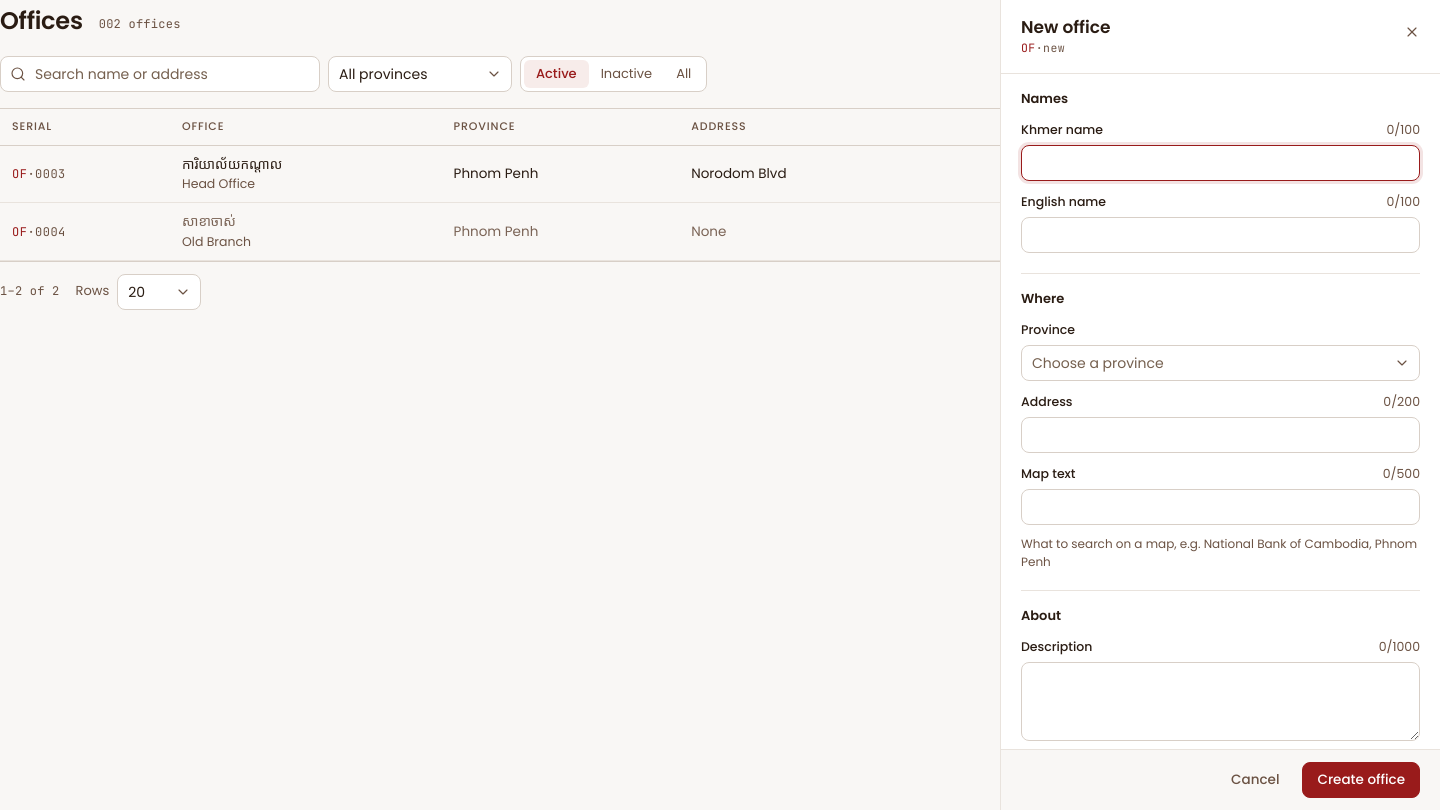
it: OfficesView › shows a duplicate name under the English name
This screenshot has width=1440, height=810.
Type "ការិយាល័យ" into the field with id "name_kh" at (1220, 163), box [1021,145,1420,181]
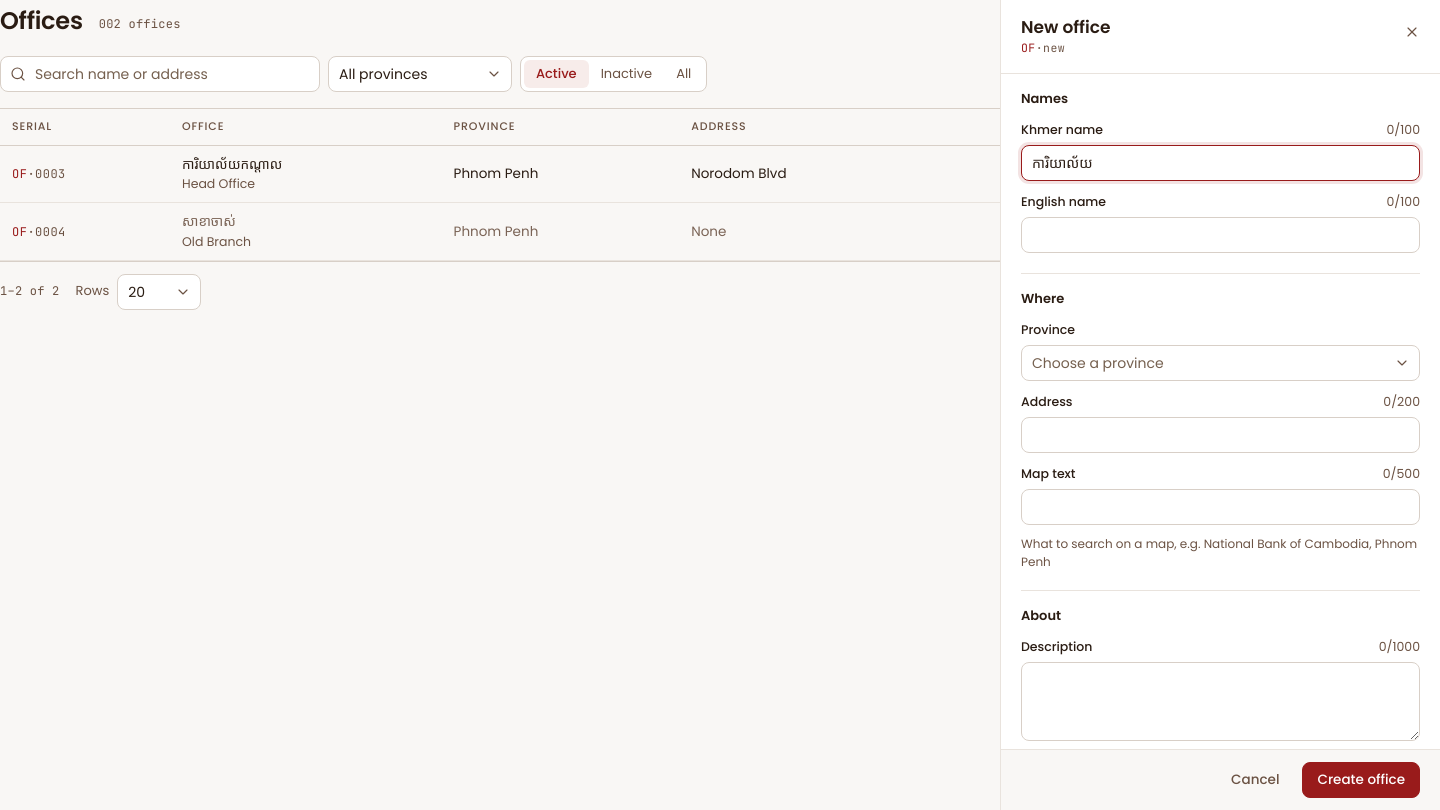
Type "Head Office" into the field with id "name_en" at (1220, 235), box [1021,217,1420,253]
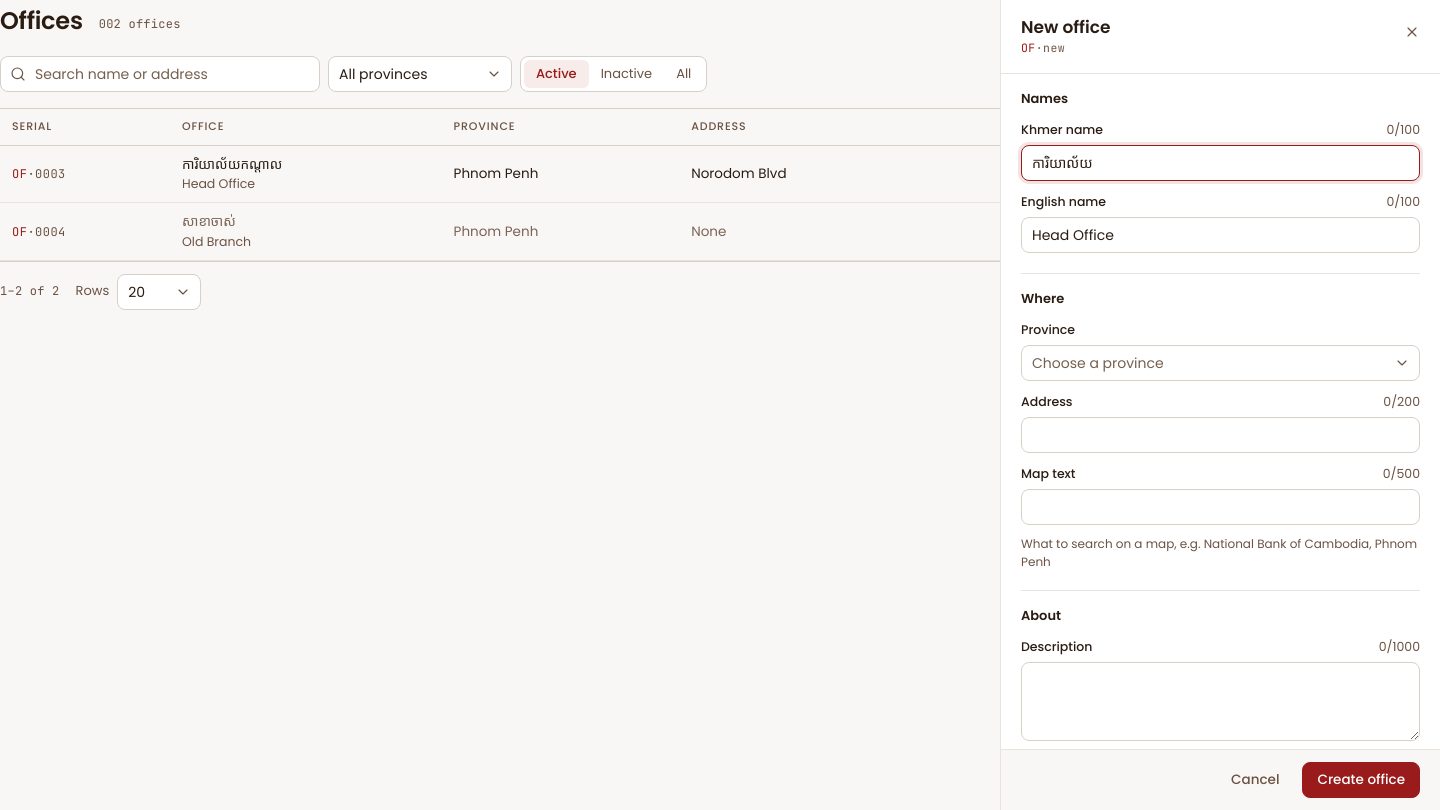
Click the button "Choose a province" at (1098, 363), box [1021,345,1420,381]
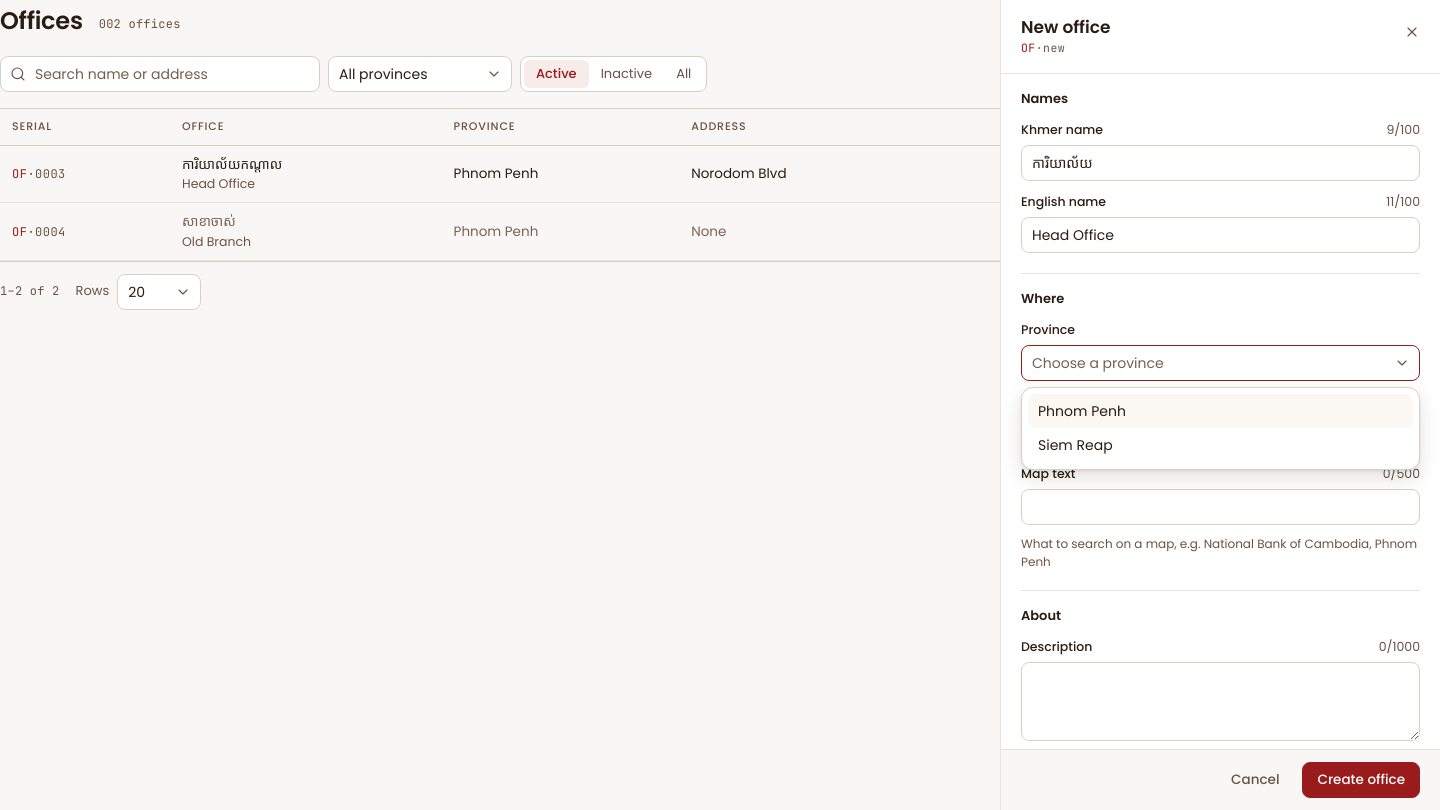
Click the option "Phnom Penh" at (1082, 411), box [1028,394,1413,428]
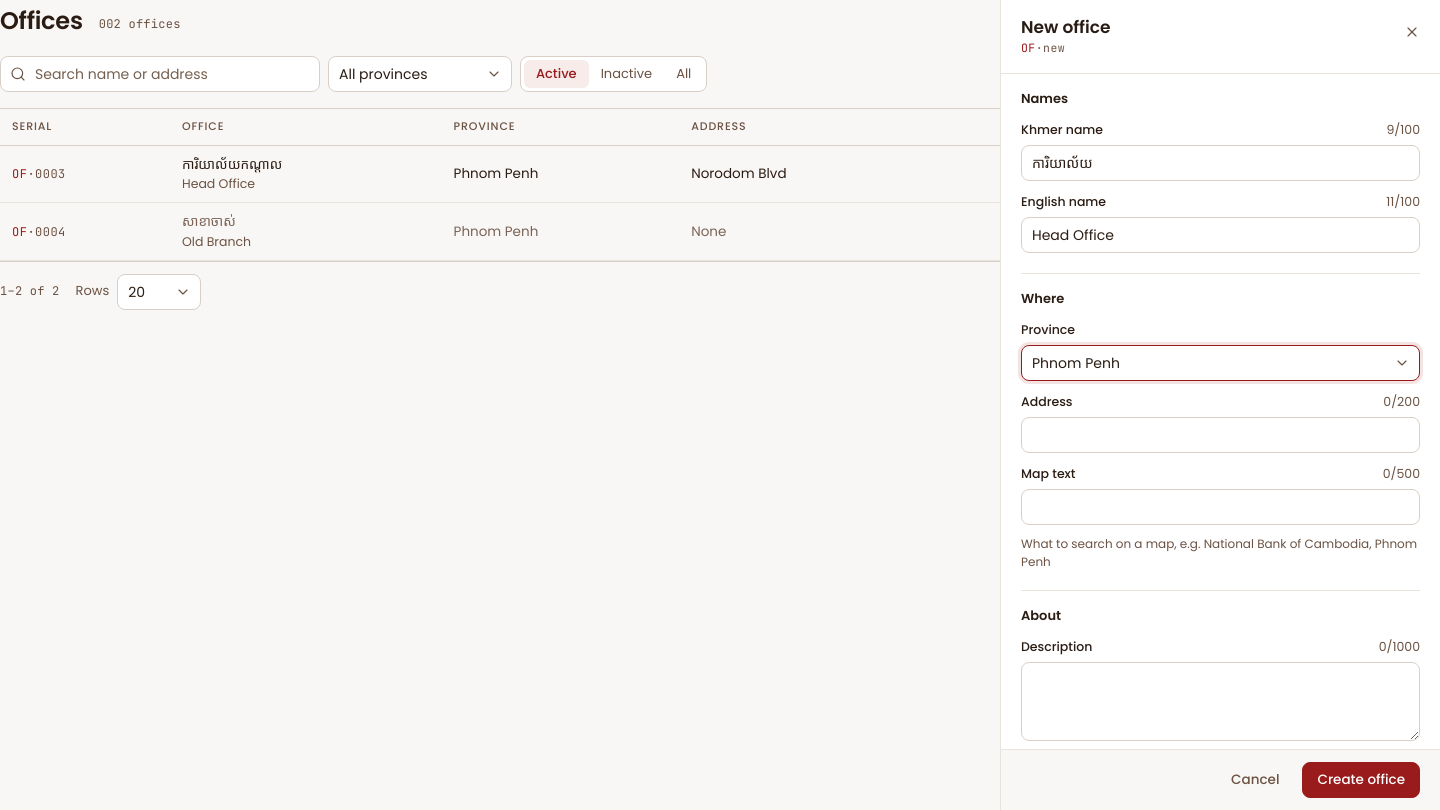
Submit the form, box [1021,90,1420,741]
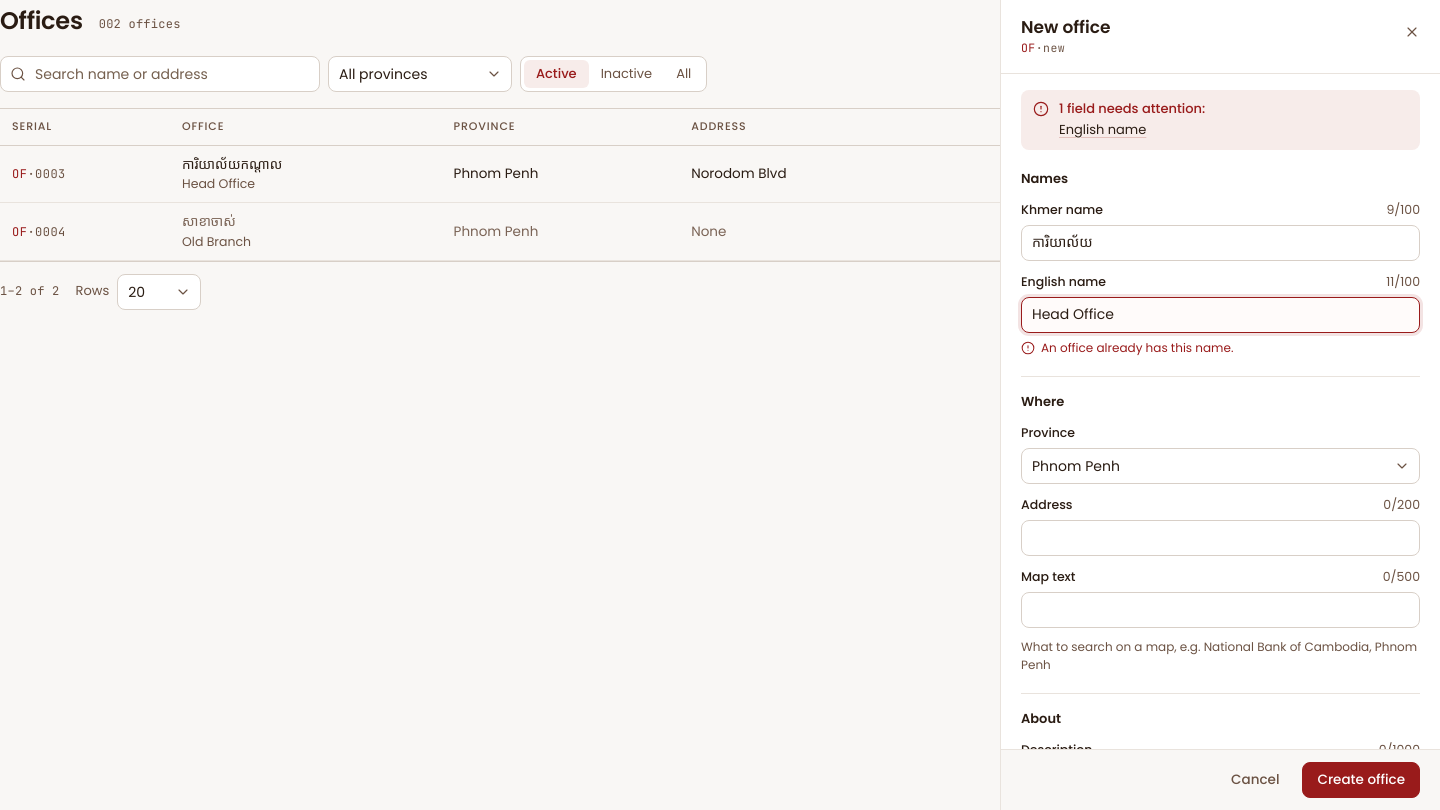
Expected: the element with id "name_en-error" reads "An office already has this name.", [1041,339,1233,356]
